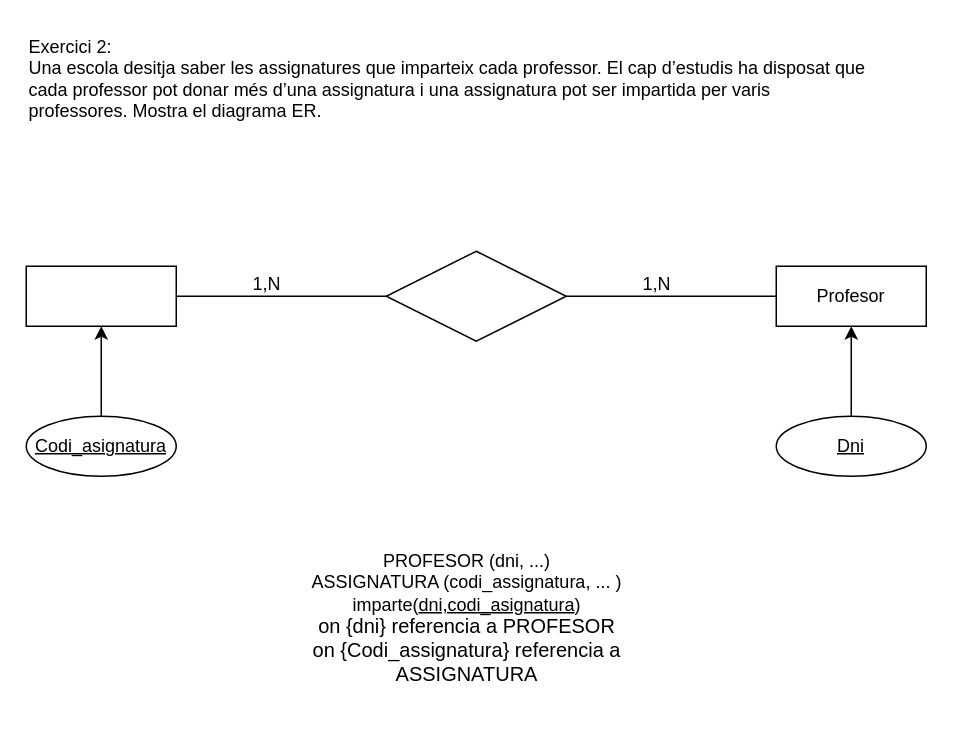
This 953x741 diagram has some shape labels left out. Each missing label, with the centre of its shape:
"Asignatura" belongs at point (100, 295).
"Imparte" belongs at point (475, 295).
